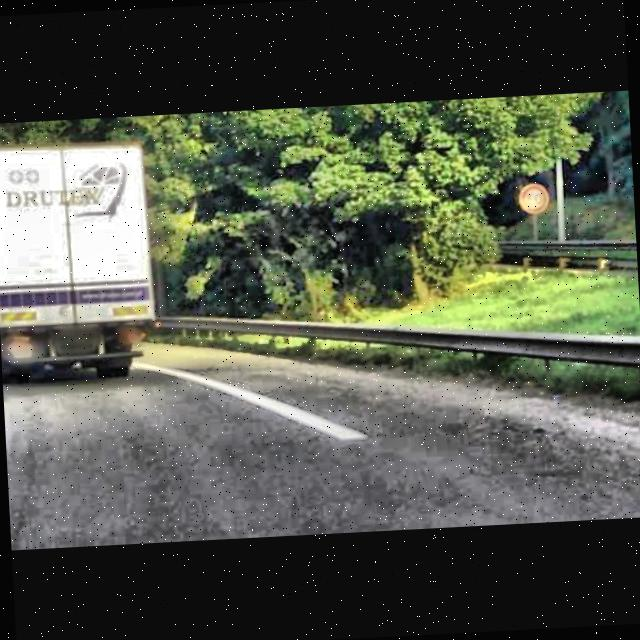speed_50: (521, 185, 547, 212)
